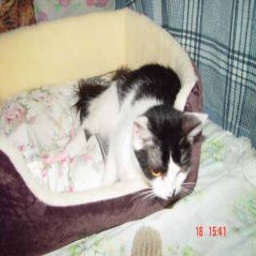cat: (71, 61, 204, 207)
